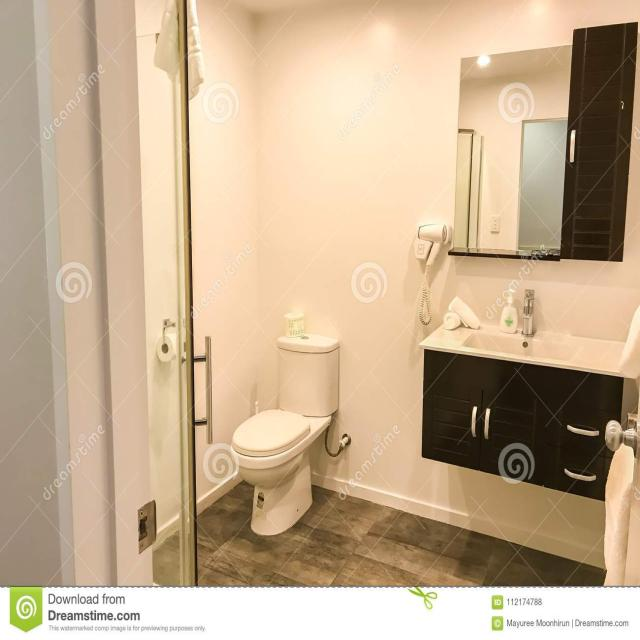dryer: (412, 217, 456, 328)
